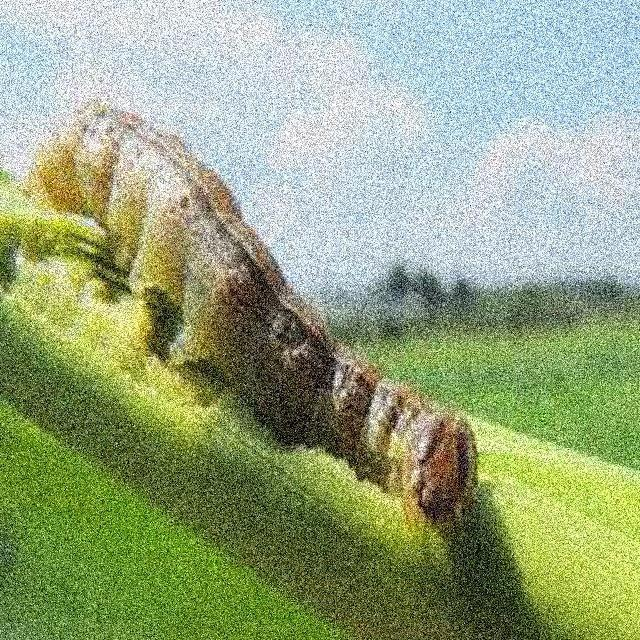gusano_cogollero: (34, 98, 482, 531)
